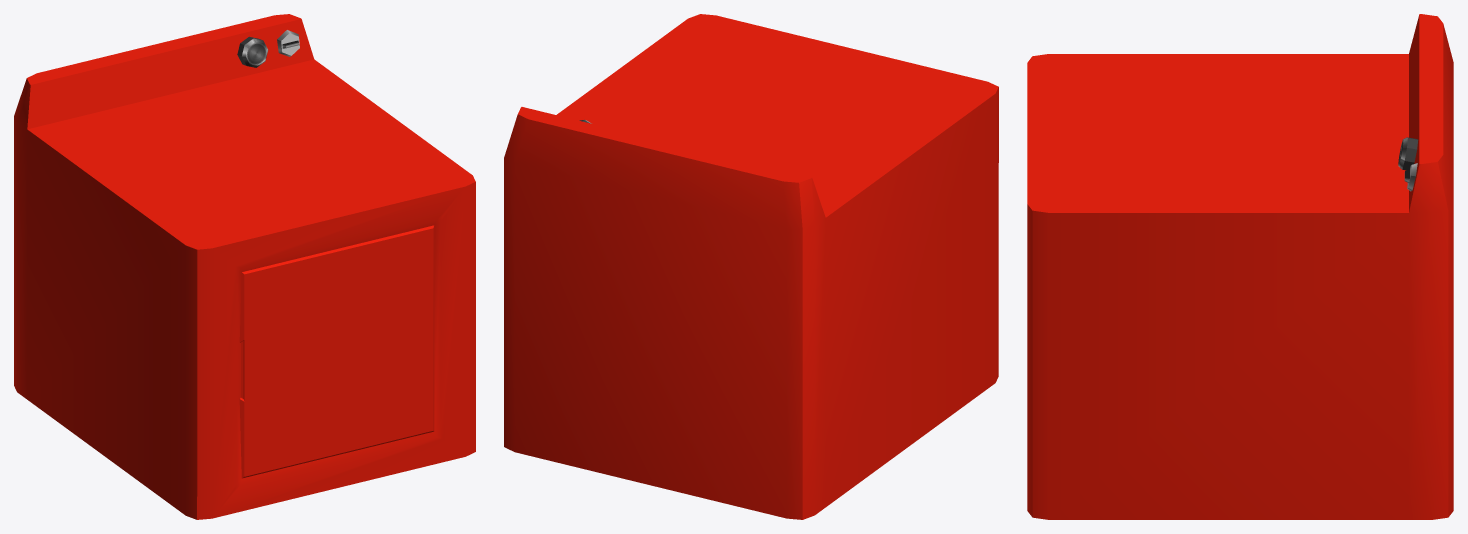
File: Dryer_03.FBX
3 views of the same model, side by side, from view 1: azimuth 30°, elevation 25°; view 2: azimuth 150°, elevation 25°; view 3: azimuth 270°, elevation 25° (orthographic). The views are drawn at different scales.
Visible parts, largest first — view 1: Dryer; view 2: Dryer; view 3: Dryer.
Part boxes in pixels (box(x1,y1,x2,y2)): Dryer: box(14, 14, 475, 519); Dryer: box(504, 14, 998, 519); Dryer: box(1027, 14, 1453, 519).
Size of the model in its own units: 150 by 155 by 170.
